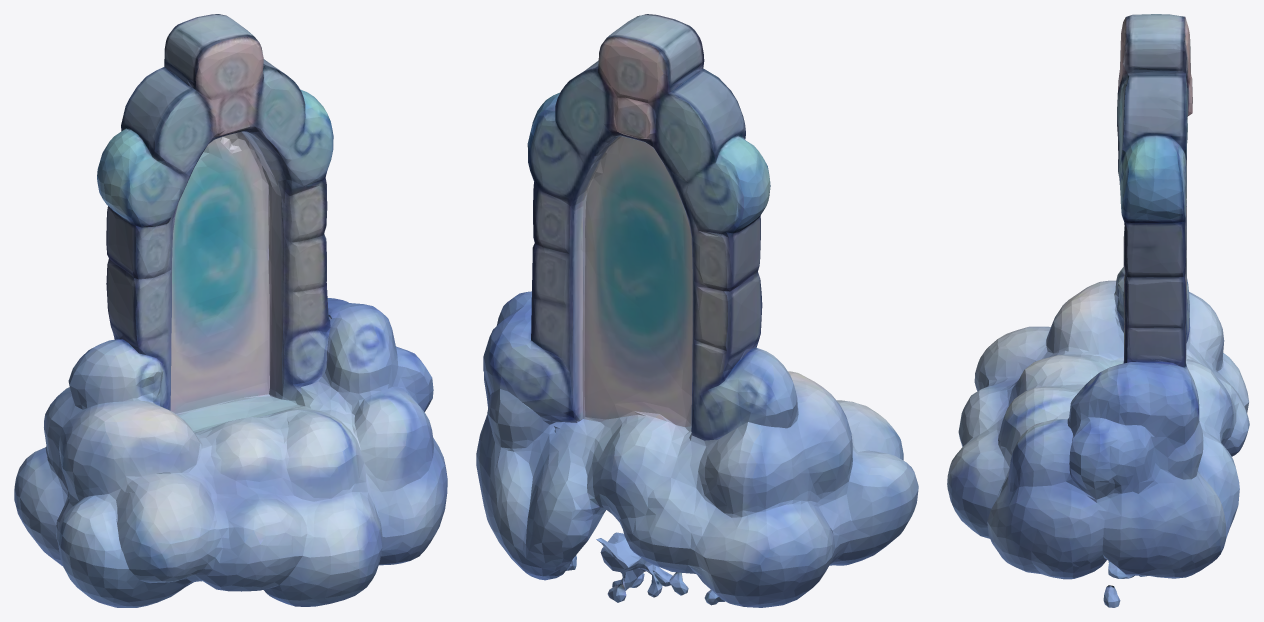
The model's file is portal_clouds.glb.
3 views of the same model, side by side, from view 1: azimuth 30°, elevation 25°; view 2: azimuth 150°, elevation 25°; view 3: azimuth 270°, elevation 25° (orthographic). The views are drawn at different scales.
Visible parts, largest first — view 1: world; view 2: world; view 3: world.
Boxes of the visible parts, x1,y1,x2,y2 form: world: [14, 14, 447, 607]; world: [476, 14, 918, 607]; world: [947, 14, 1249, 607].
Size of the model in its own units: 0.7114 by 0.9994 by 0.5132.
1 material, 1 textured.
